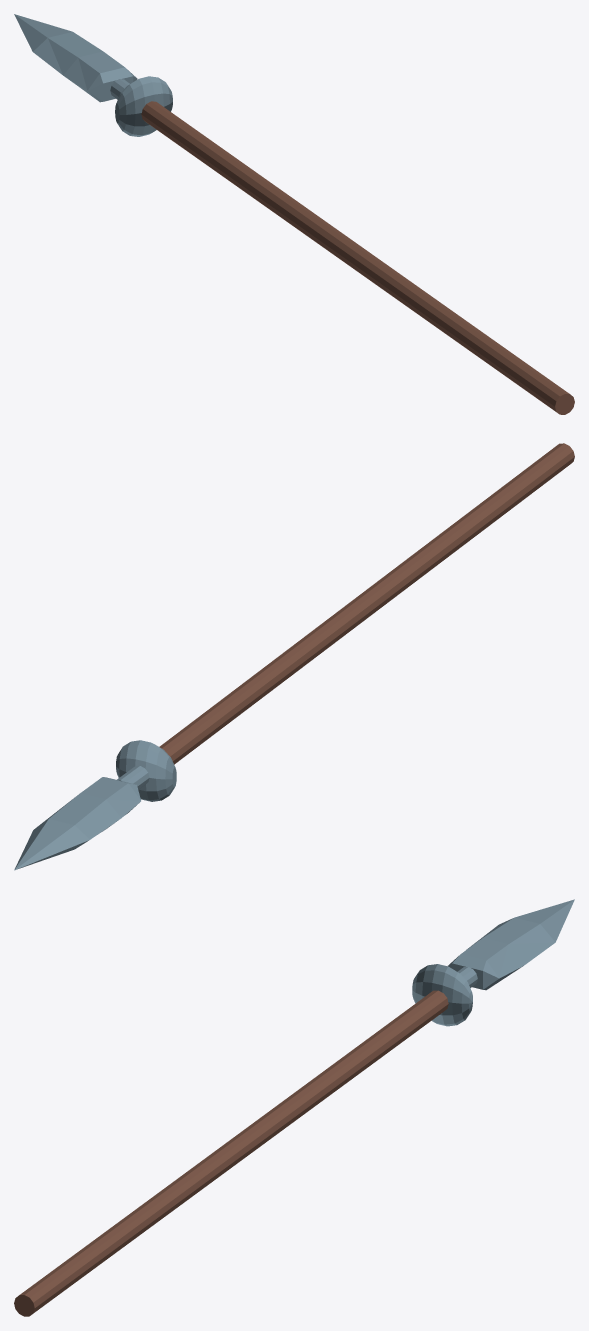
Rendered from Spear.glb.
The picture shows the model from 3 angles, top to bottom: view 1: azimuth 30°, elevation 25°; view 2: azimuth 150°, elevation 25°; view 3: azimuth 330°, elevation 25°; orthographic projection. The views are drawn at different scales.
Visible parts, largest first — view 1: group893075455, group2055073732, group910683261; view 2: group893075455, group2055073732, group910683261; view 3: group893075455, group2055073732, group910683261.
Part boxes in pixels (left/top/right/bottom): group893075455: left=141, top=101, right=574, bottom=414; group2055073732: left=14, top=14, right=137, bottom=102; group910683261: left=115, top=76, right=172, bottom=136; group893075455: left=159, top=443, right=574, bottom=764; group2055073732: left=14, top=777, right=140, bottom=870; group910683261: left=116, top=740, right=176, bottom=801; group893075455: left=14, top=990, right=448, bottom=1316; group2055073732: left=448, top=899, right=574, bottom=990; group910683261: left=412, top=964, right=472, bottom=1026.
Bounding box in the file's own units: 0.2299 × 0.221 × 3.75.
